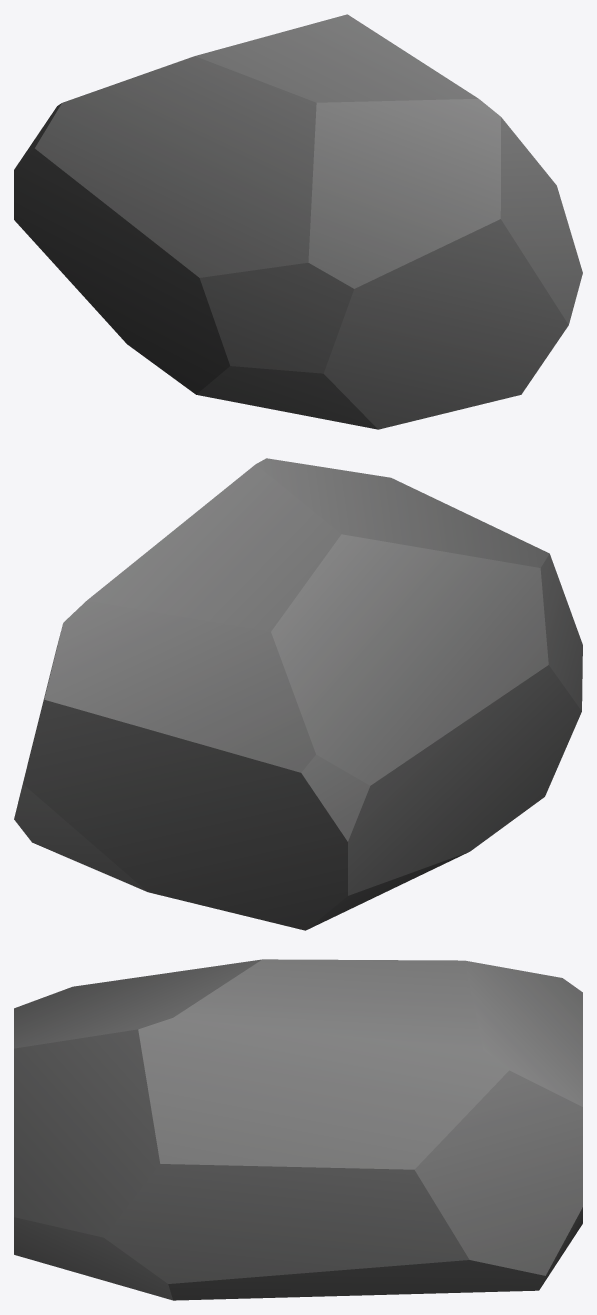
Rendered from SM_Rock_02.fbx.
The picture shows the model from 3 angles, top to bottom: view 1: azimuth 30°, elevation 25°; view 2: azimuth 150°, elevation 25°; view 3: azimuth 270°, elevation 25°; orthographic projection. The views are drawn at different scales.
Visible parts, largest first — view 1: SM_Rock_02; view 2: SM_Rock_02; view 3: SM_Rock_02.
Part boxes in pixels (<box>): SM_Rock_02: <box>14,14,582,429</box>; SM_Rock_02: <box>14,458,582,930</box>; SM_Rock_02: <box>14,959,582,1300</box>.
Size of the model in its own units: 100 by 64.56 by 131.
